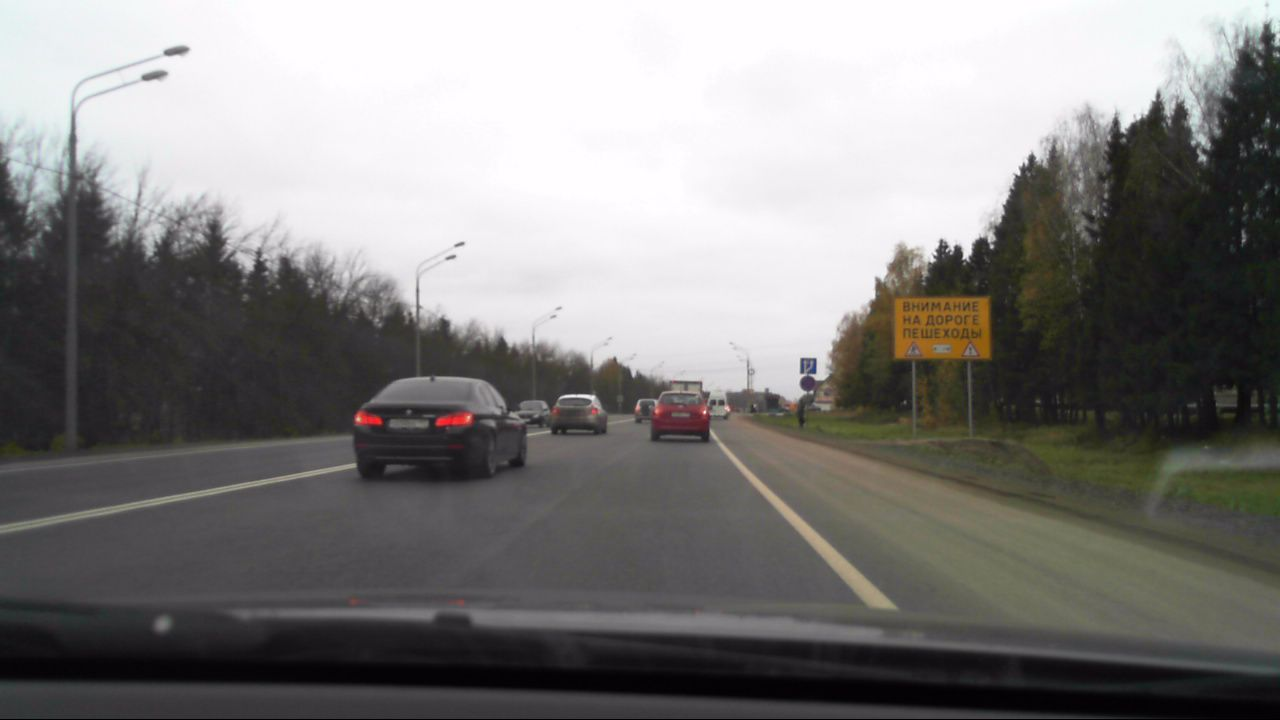No Parking: (798, 374, 816, 393)
